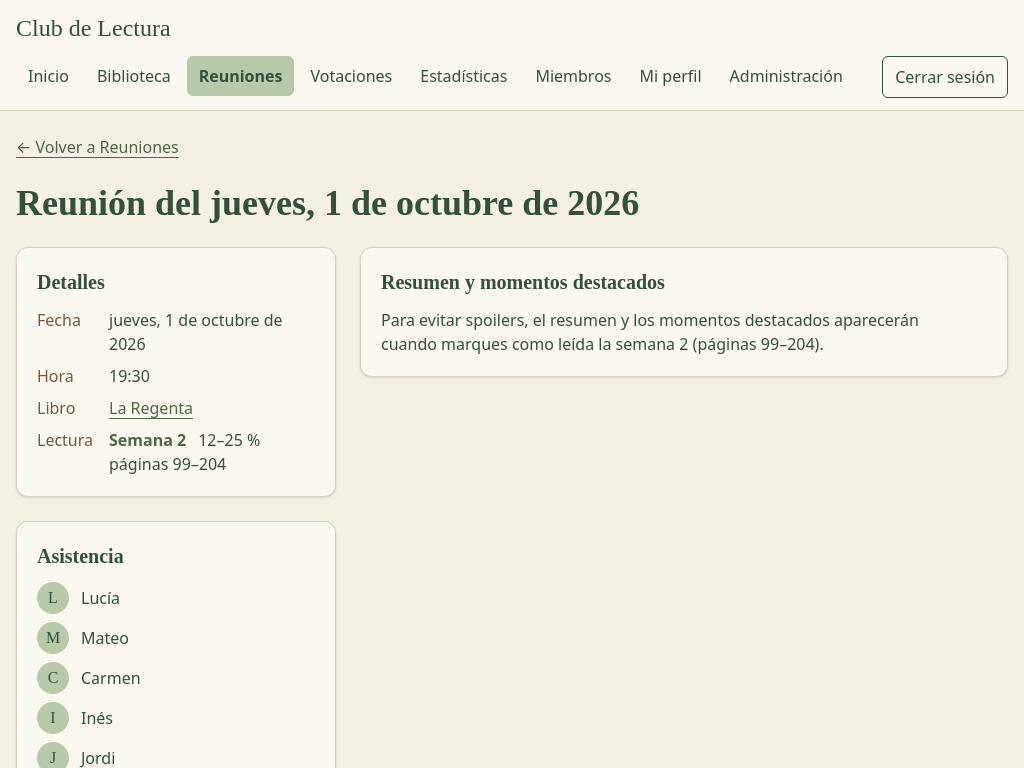
Test: Meeting page › shows the record after the week is marked as read
Check: the element "Resumen y momentos destacados" is shown, box [360,247,1008,377]
What coordinates should you click on to do the following:
click the link "← Volver a Reuniones"
I would click on:
 (97, 147)
Its box is [16,136,179,158].
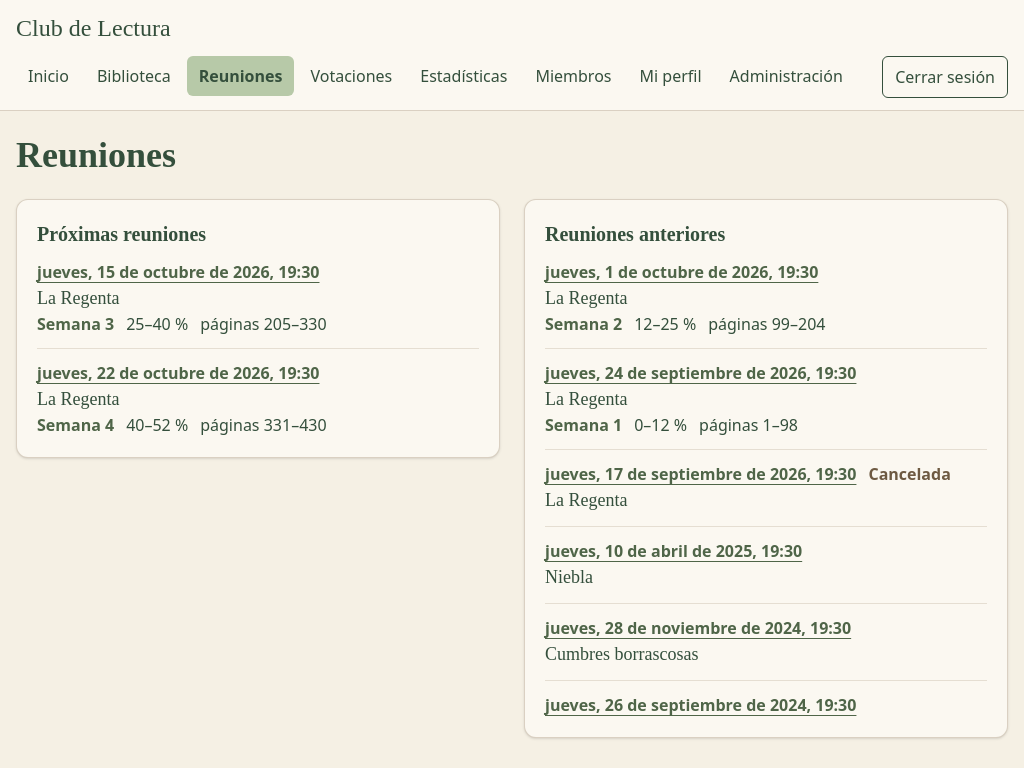
What coordinates should you click on to do the following:
click the link "jueves, 1 de octubre de 2026, 19:30"
I would click on:
 (682, 272)
Its box is [545,260,818,284].
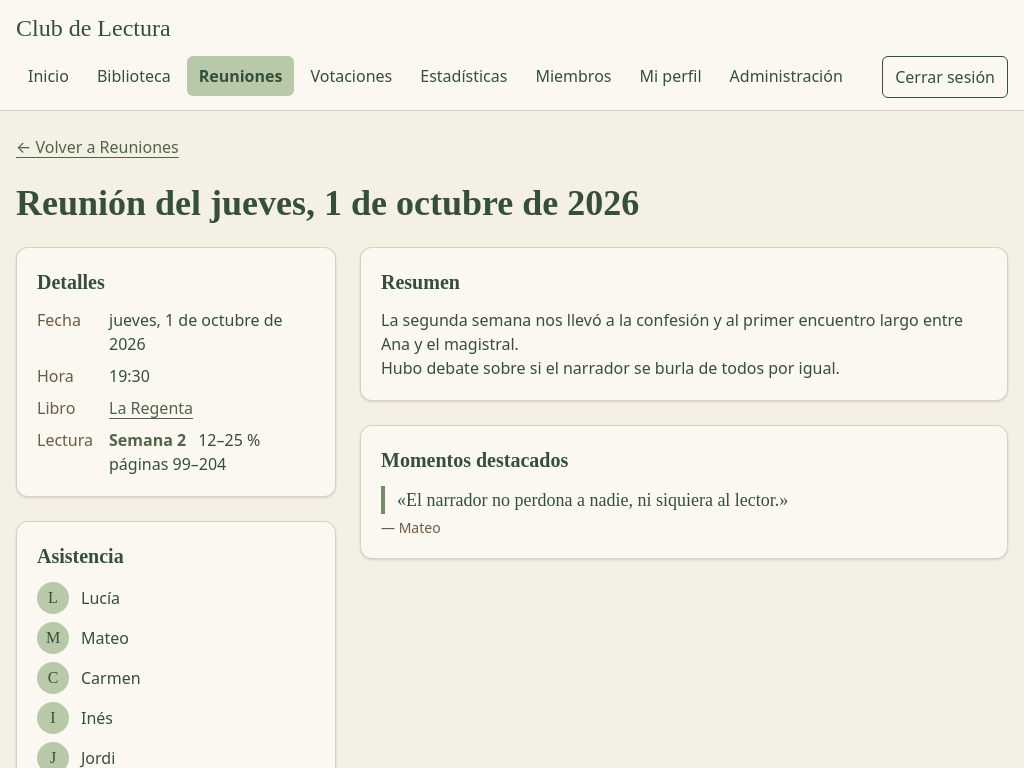
Check: the heading "Resumen y momentos destacados" is not shown
Check: the element "Resumen" shows "La segunda semana", box [381,309,967,379]
